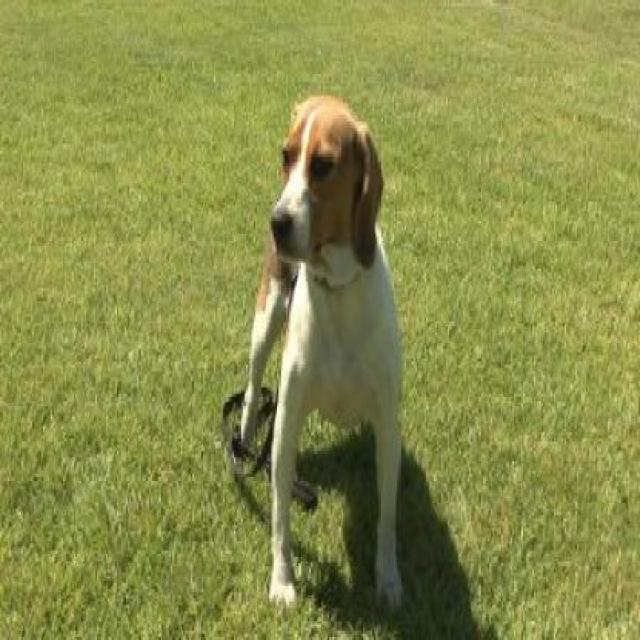Dog: (238, 81, 411, 624)
